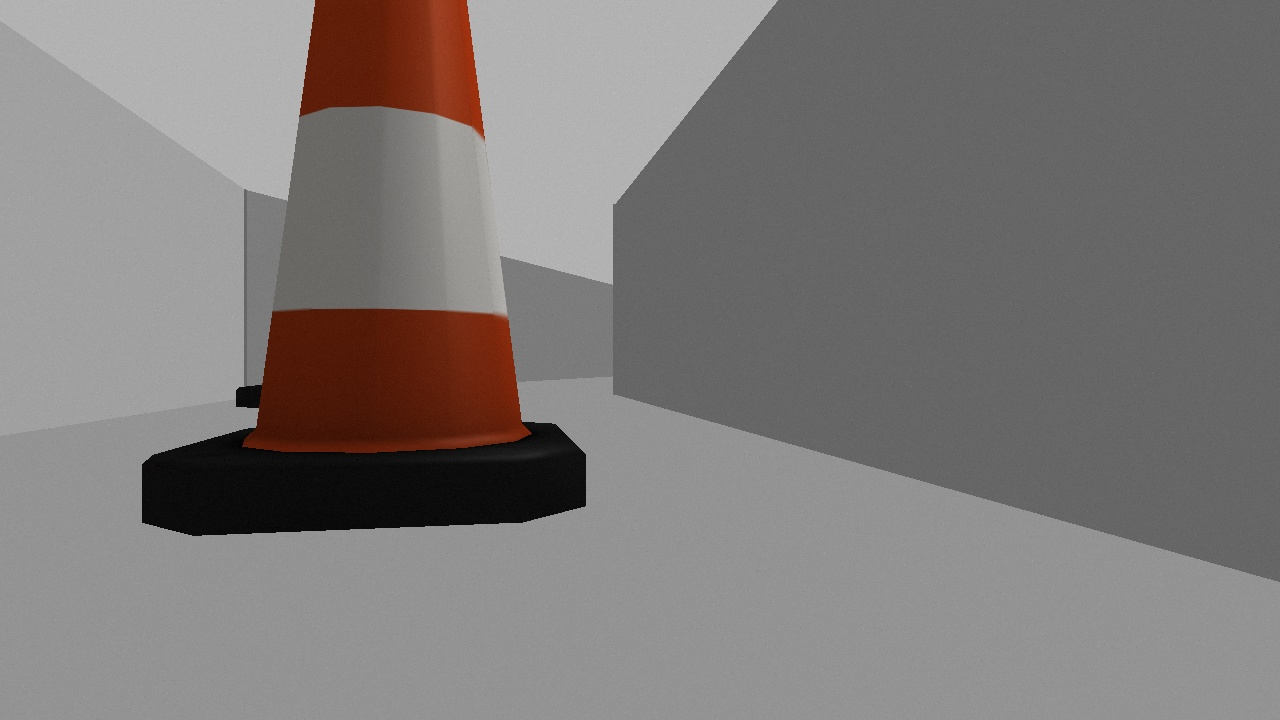barricade: (117, 1, 607, 555)
